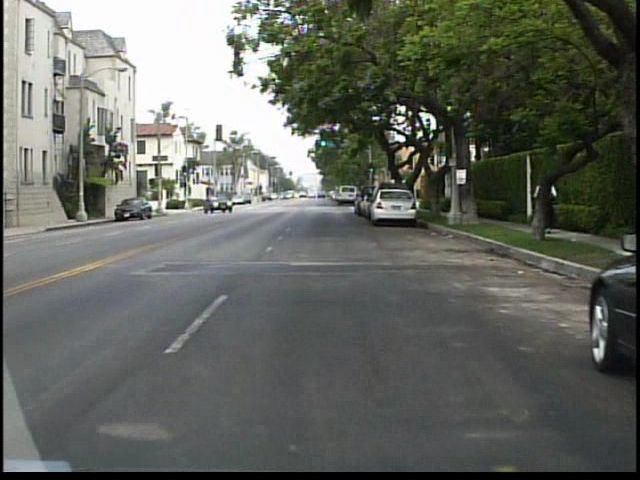person: (526, 169, 560, 243)
